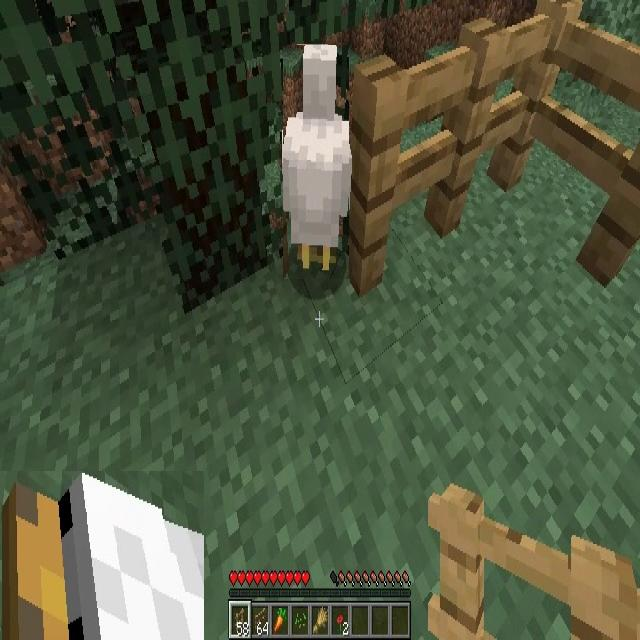duck: (0, 471, 204, 640), (284, 45, 349, 279)
